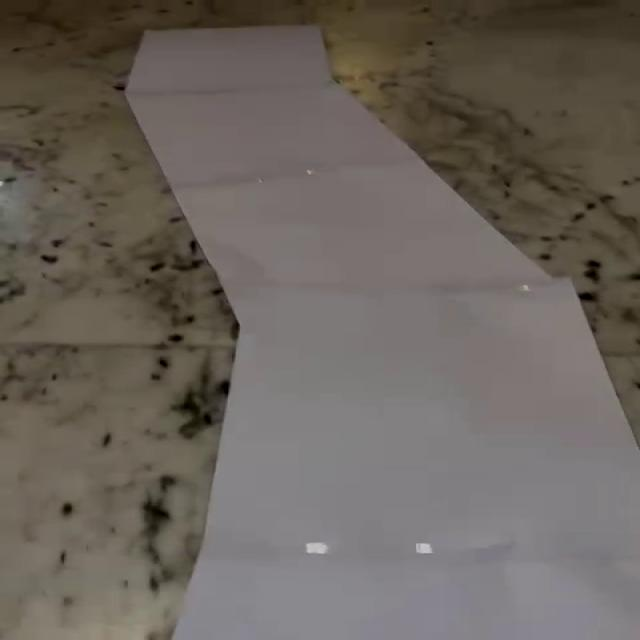road: (127, 25, 637, 640)
